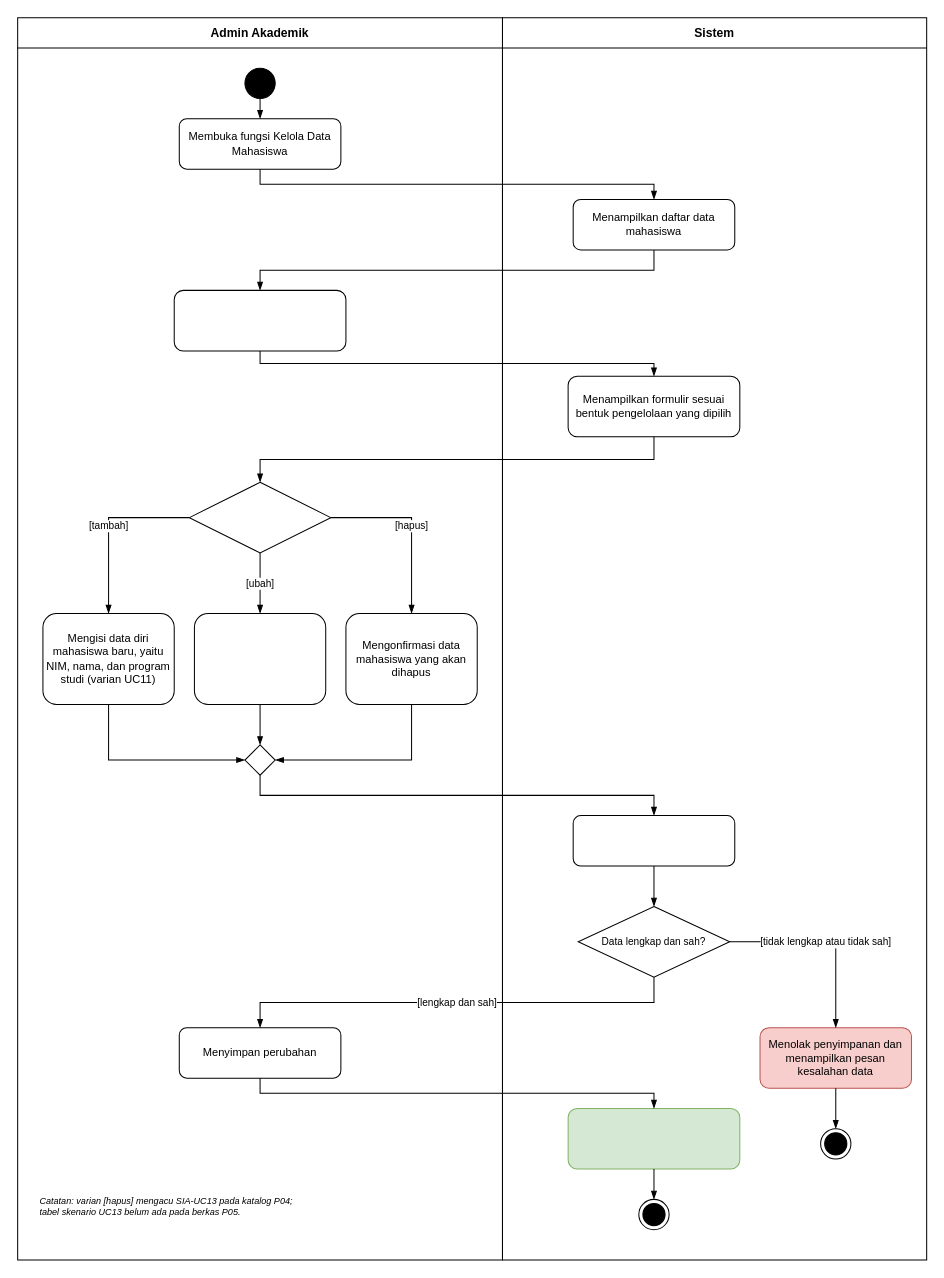
This 944x1278 diagram has some shape labels left out. Each missing label, with the centre of its shape:
"Bentuk pengelolaan?" belongs at (x=259, y=517).
"Memeriksa kelengkapan dan keabsahan data" belongs at (x=653, y=840).
"Memilih bentuk pengelolaan, yaitu tambah, ubah, atau hapus" belongs at (x=259, y=320).
"Mengubah data mahasiswa (varian UC12)" belongs at (x=259, y=658).
"Menyimpan perubahan dan menampilkan konfirmasi" belongs at (x=653, y=1138).
